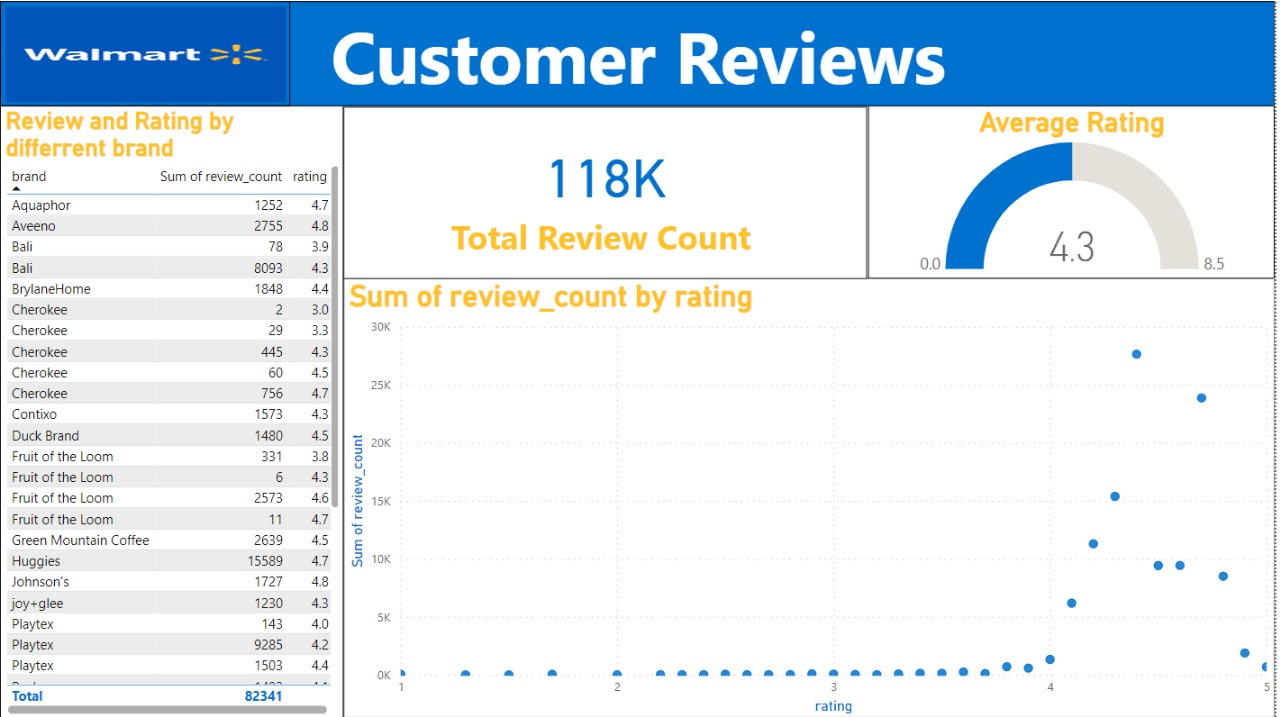

Layout of this report page (visuals, bound fields, positions):
{"tool":"powerbi","page":{"name":"Customer Reviews","canvas":[1280,720],"ordinal":1},"visuals":[{"type":"textbox","box":[0,0,1280,105.7],"z":0},{"type":"gauge","fields":{"Y":["Avg(Walmart products dataset.rating)"]},"box":[871.7,105,408.3,173.3],"z":1000},{"type":"scatterChart","fields":{"X":["Walmart products dataset.rating"],"Y":["Sum(Walmart products dataset.review_count)"]},"box":[345,278.3,935,441.7],"z":2000},{"type":"tableEx","title":"Review and Rating by differrent brand","fields":{"Values":["Walmart products dataset.brand","Sum(Walmart products dataset.review_count)","Walmart products dataset.rating"]},"box":[0,105,345,615],"z":3000},{"type":"card","fields":{"Values":["Sum(Walmart products dataset.review_count)"]},"box":[345.1,105.7,525.2,173.1],"z":4000},{"type":"image","box":[0,0,291.4,105.7],"z":5000}]}

Visuals, with their boxes in screenshot pixels (x1, y1, x2, y2), scaled from the page's 1280x720 canvas onto the 1280x717 screenshot:
textbox: region(0, 0, 1279, 105)
gauge - Avg(Walmart products dataset.rating): region(872, 105, 1279, 277)
scatterChart - Walmart products dataset.rating x Sum(Walmart products dataset.review_count): region(345, 277, 1279, 716)
"Review and Rating by differrent brand" tableEx: region(0, 105, 345, 716)
card - Sum(Walmart products dataset.review_count): region(345, 105, 870, 278)
image: region(0, 0, 291, 105)
